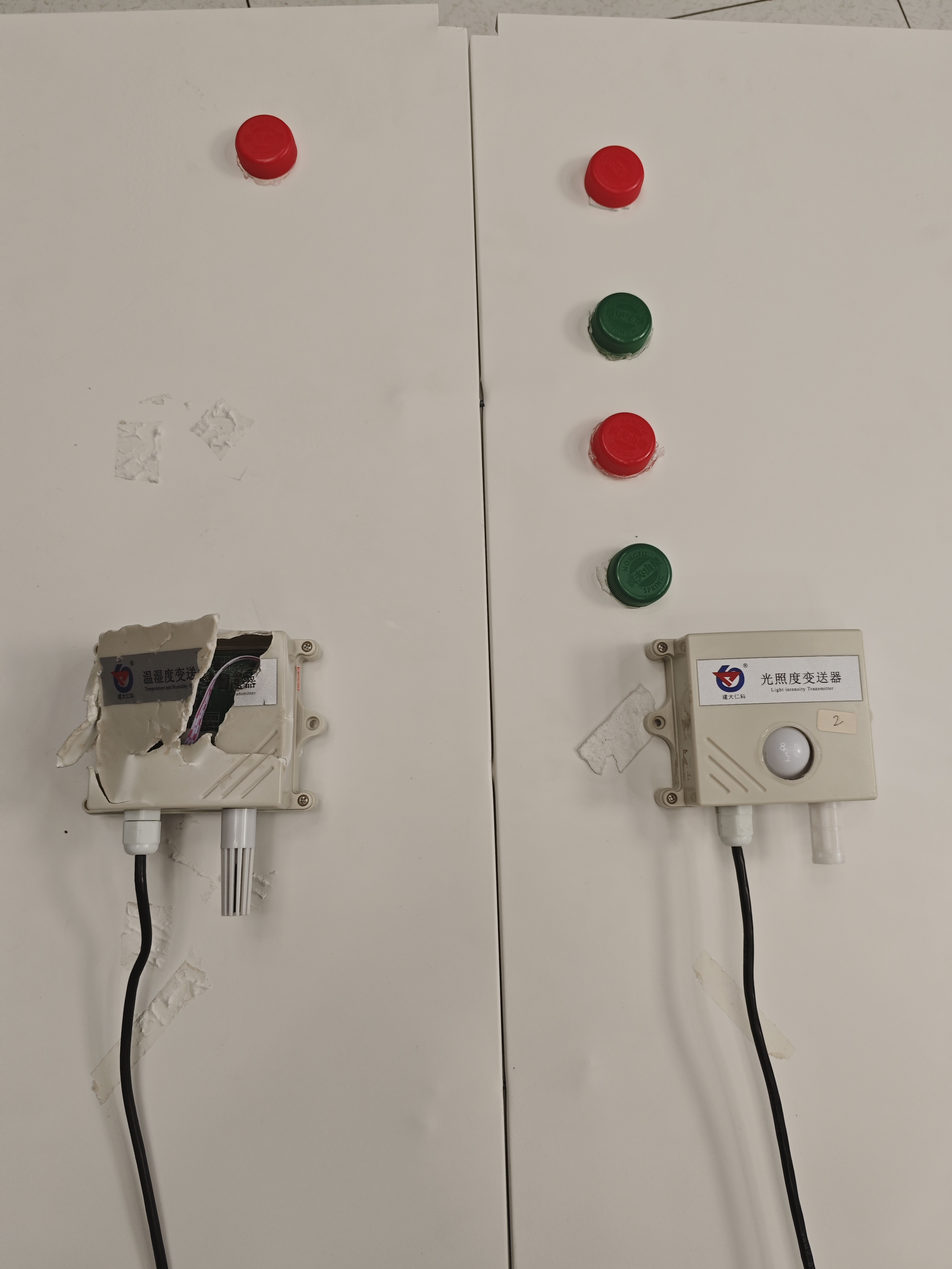red_warning: (576, 388, 705, 500), (218, 109, 340, 206), (569, 137, 655, 221)
sensor_damage: (46, 590, 350, 941)
